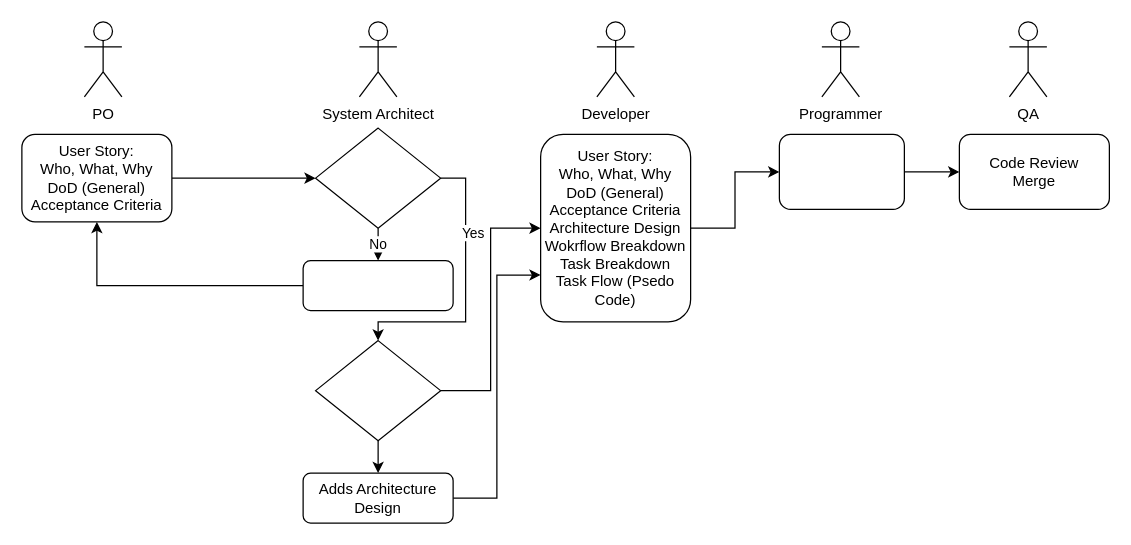
Some shapes in this 1131 by 545 pixel diagram are drawn without their labels. Here are the shapes that lost their labels. From the top down, the centre of each, then its label:
At [377,177]: "Story, DoC, and Acceptance Criteria is clear".
At [841,171]: "B.D.D. Test Code".
At [377,285]: "Commenting missing items".
At [377,390]: "Need Architecture Review?".
